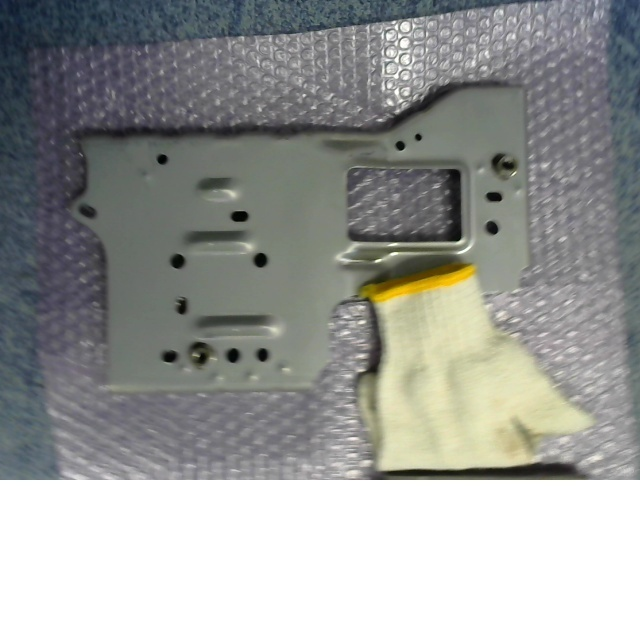dog: (189, 341, 217, 370), (492, 152, 518, 180)
